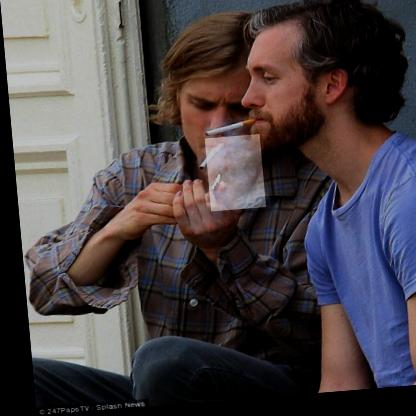smoke: (202, 138, 262, 215)
